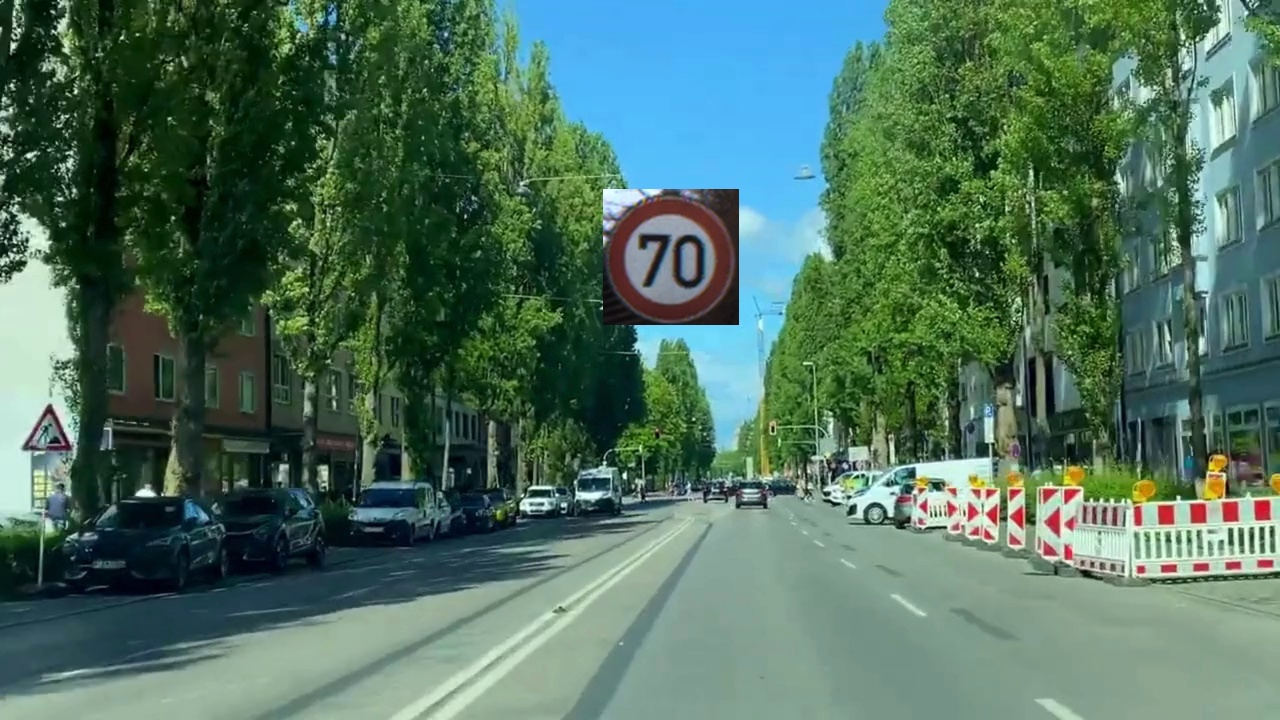Speed 70: (603, 189, 739, 325)
